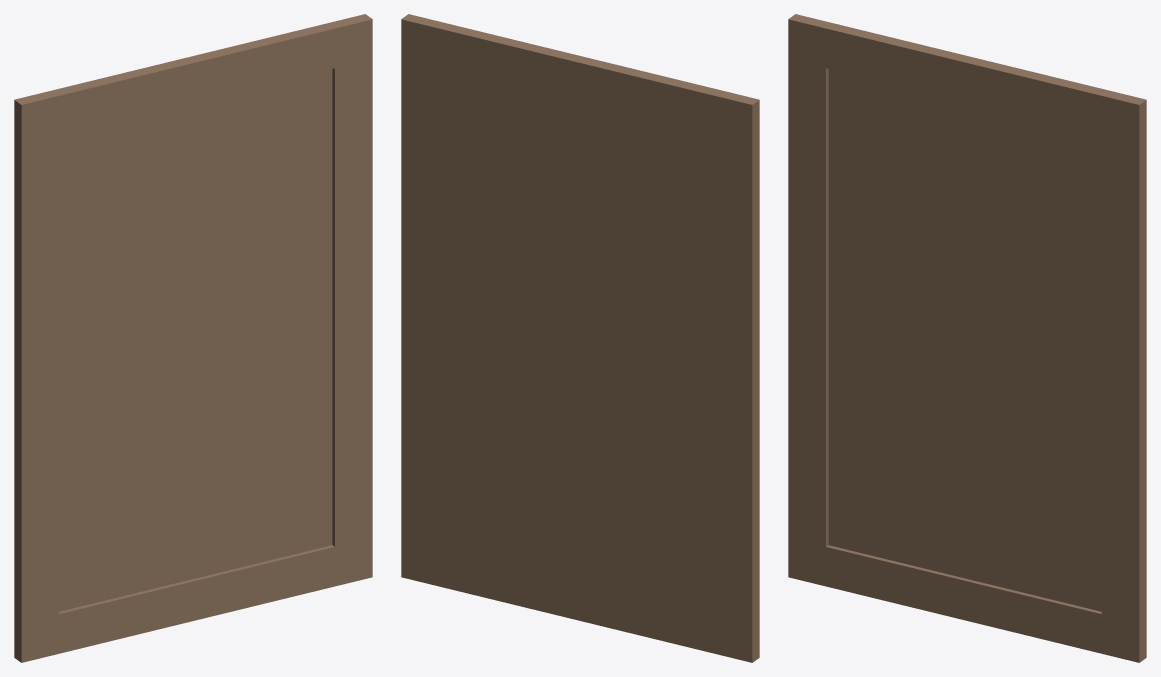
File: door_10.obj
The picture shows the model from 3 angles, left to right: view 1: azimuth 30°, elevation 25°; view 2: azimuth 150°, elevation 25°; view 3: azimuth 330°, elevation 25°; orthographic projection.
Visible parts, largest first — view 1: door_10; view 2: door_10; view 3: door_10.
Part boxes in pixels (x1,y1,x2,y2): door_10: (14, 14, 372, 662); door_10: (401, 14, 759, 662); door_10: (788, 14, 1146, 662).
Size of the model in its own units: 530 by 805 by 19.05.
